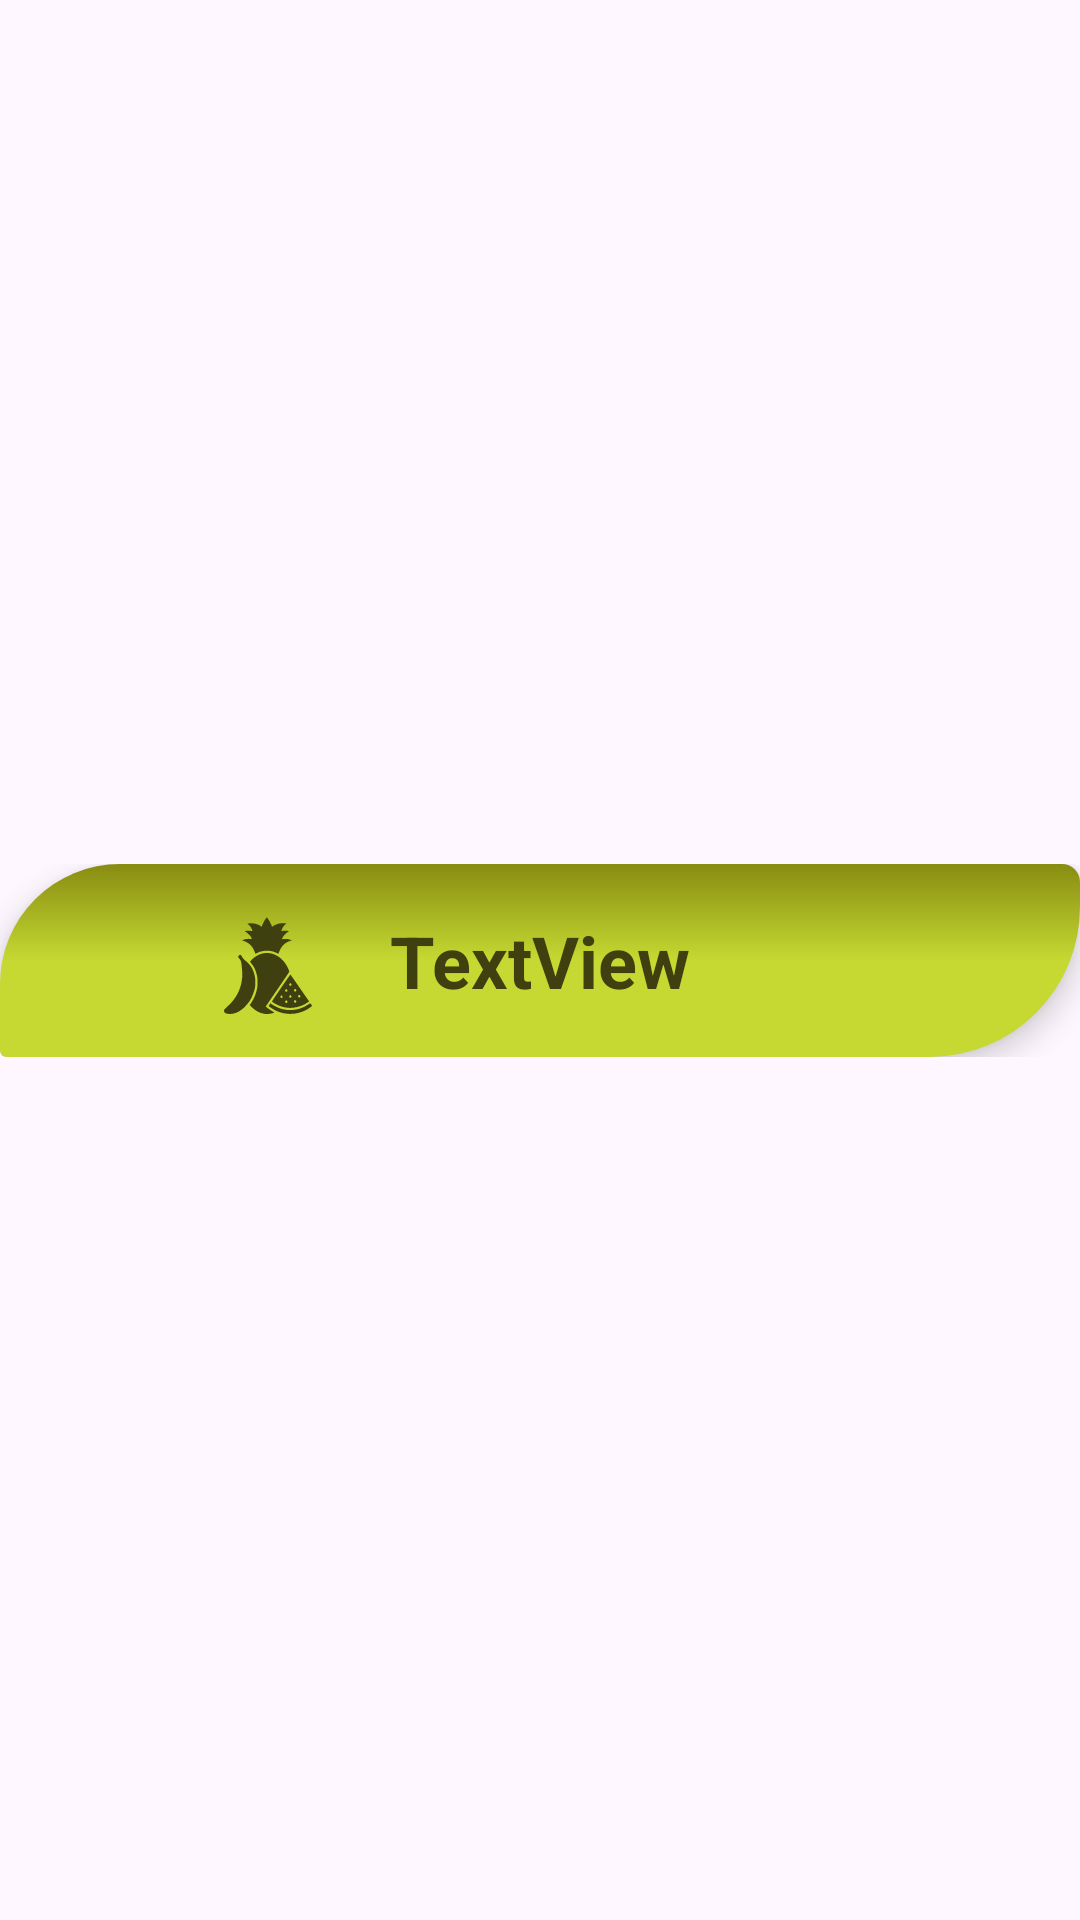

Named icons in this screenshot (1080*1920) and their centers, (x=x, y=y):
fruit: (x=268, y=983)
